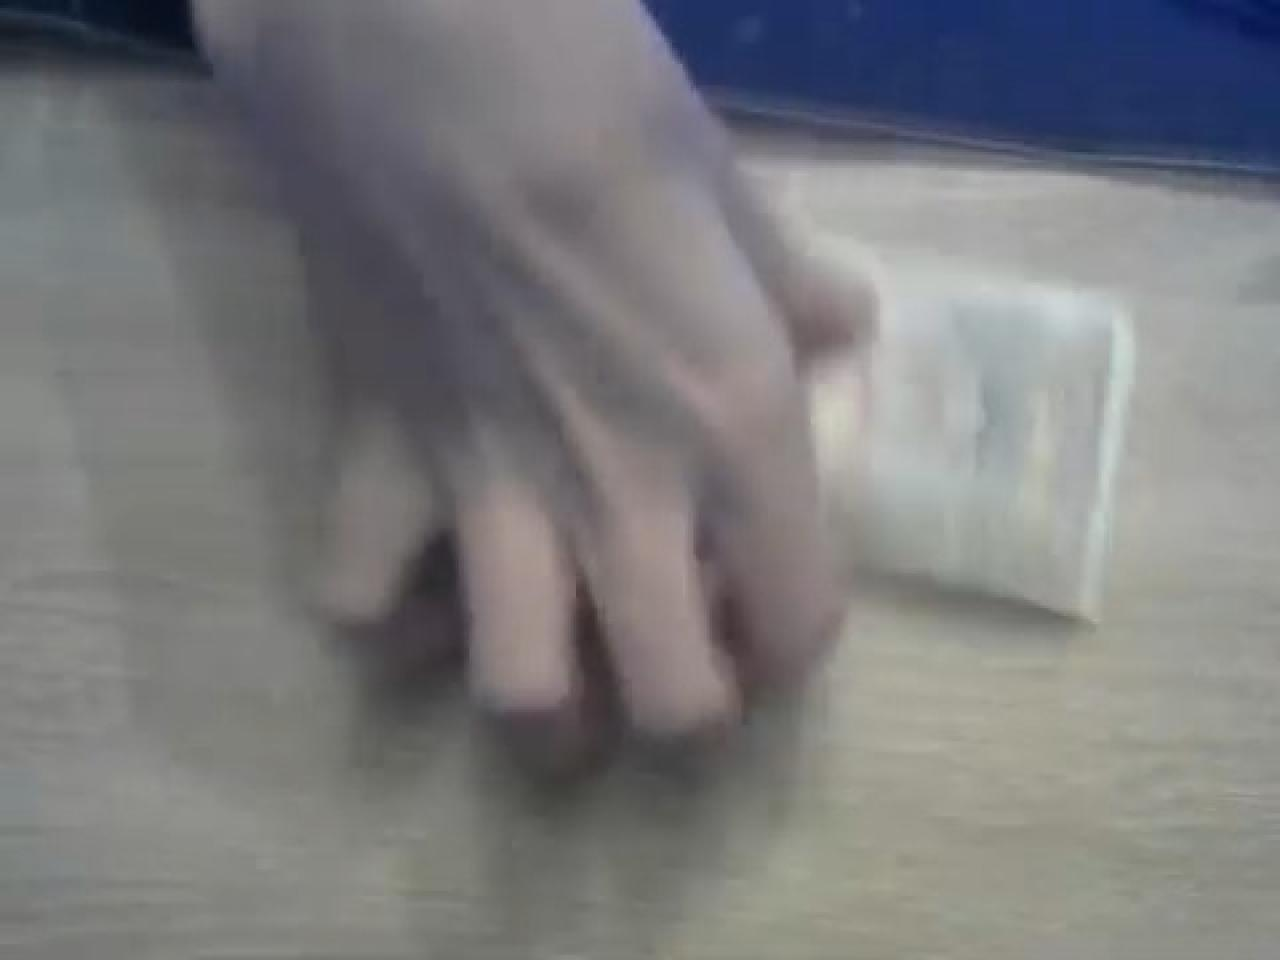10leva: (175, 0, 893, 792)
